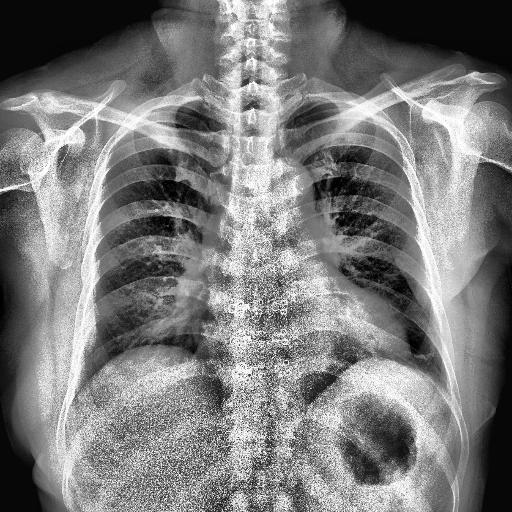0- Aortic enlargement: (192, 309, 414, 402), (254, 158, 316, 222), (264, 159, 318, 229)
13- Pulmonary fibrosis: (406, 348, 434, 360), (400, 350, 436, 358), (408, 350, 434, 360)
3- Cardiomegaly: (193, 306, 411, 368), (194, 306, 409, 360)
